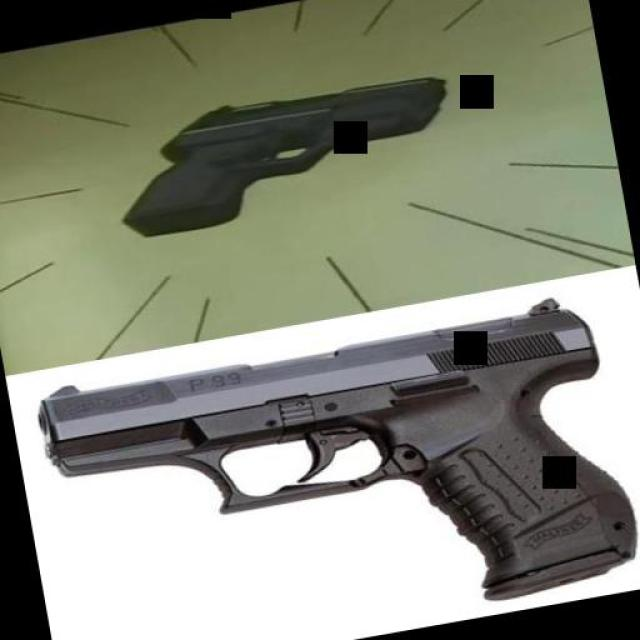gun: (30, 290, 640, 640), (102, 62, 464, 242)
